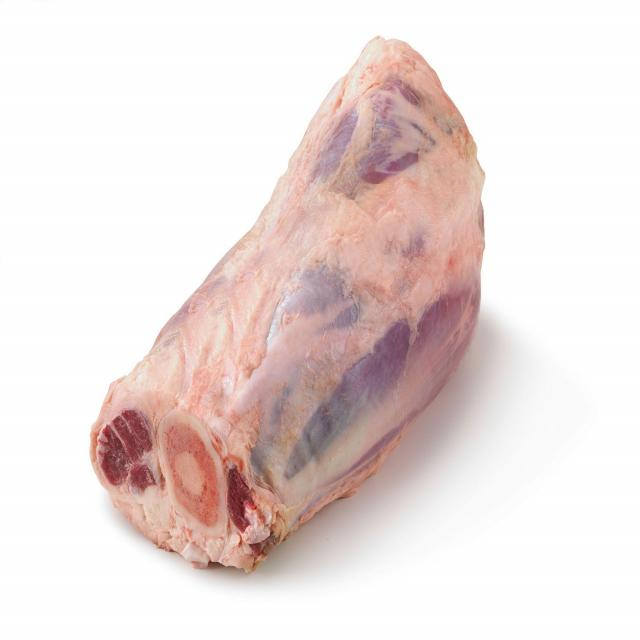beef: (77, 39, 488, 570)
